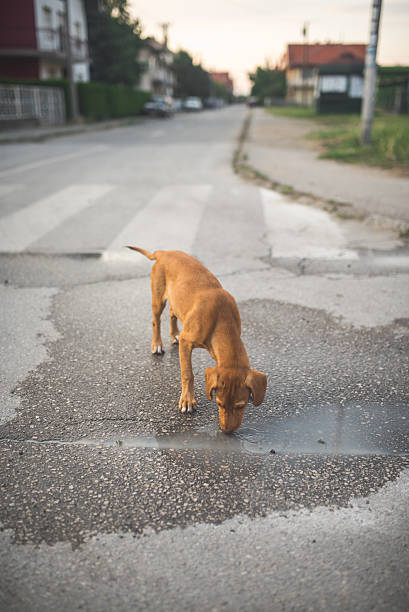kopek: (118, 233, 285, 442)
